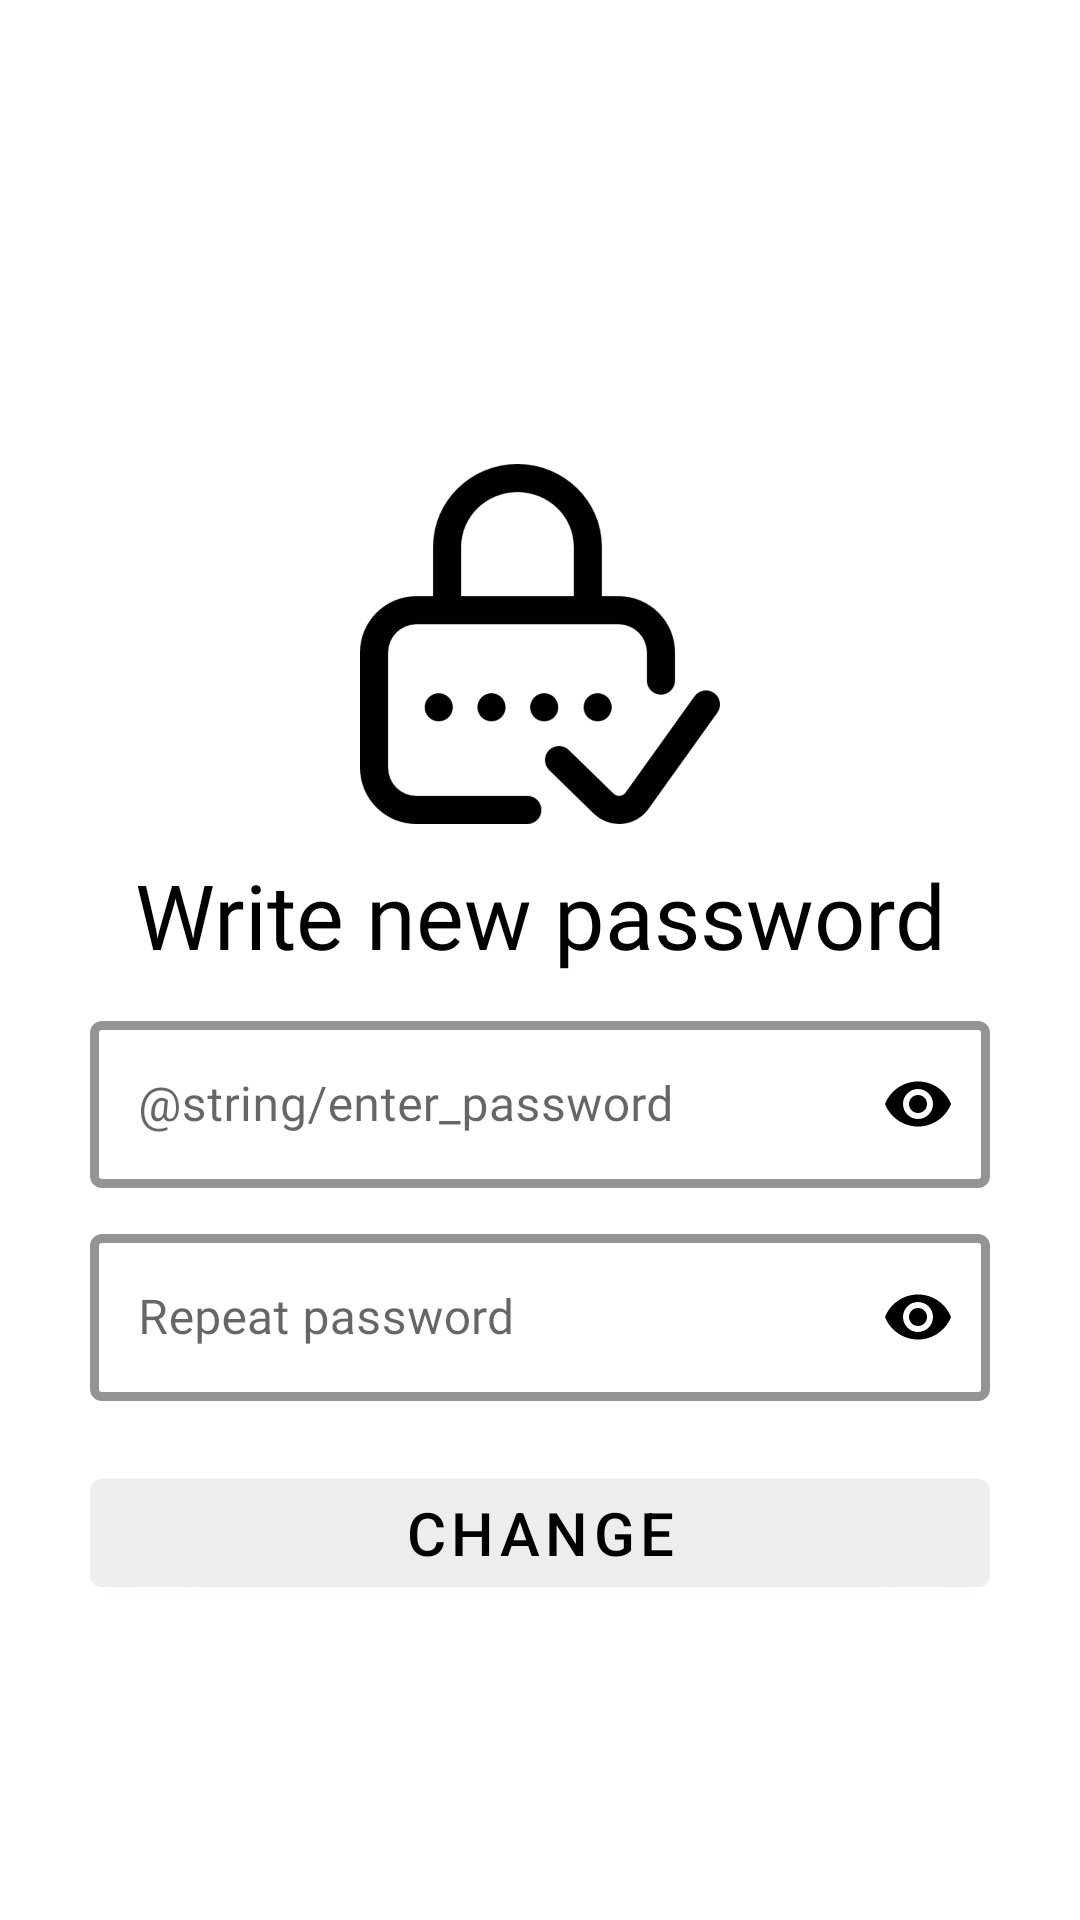

Icons on this 1080 × 1920 Android screen, each with the point to tap as (x=x, y=y):
password changed: (x=540, y=644)
